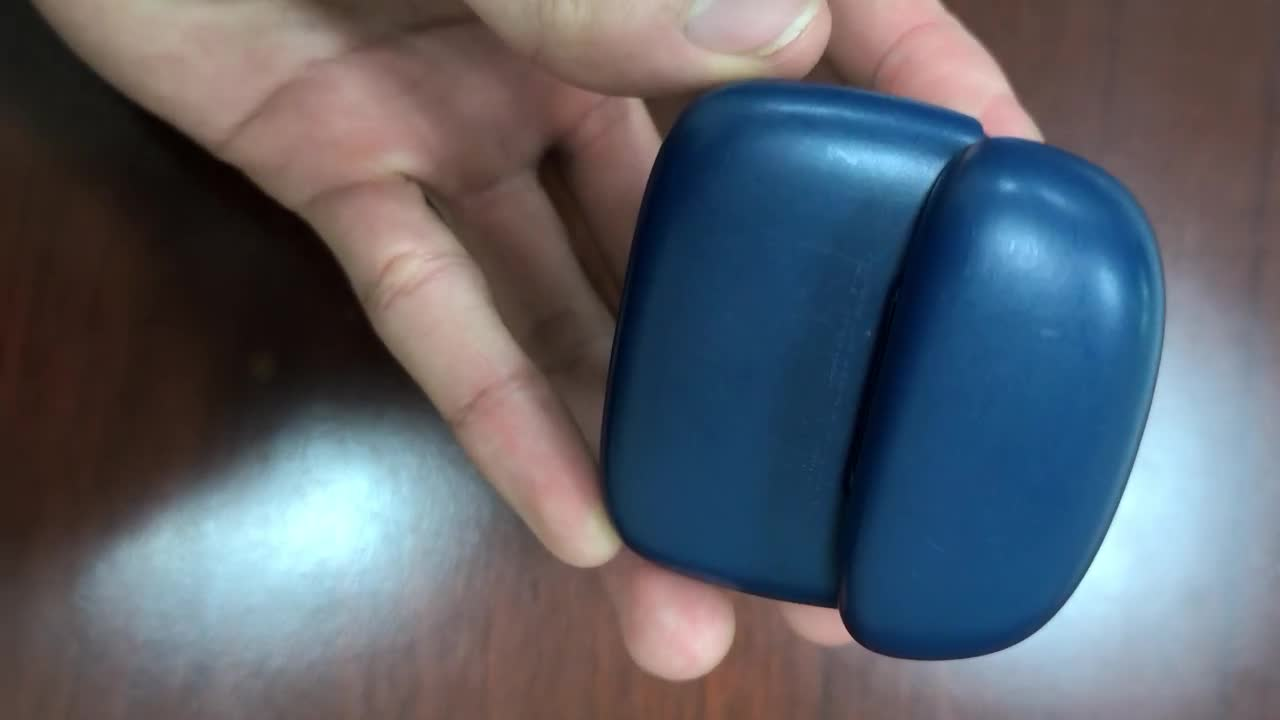Case: (601, 82, 1161, 658)
